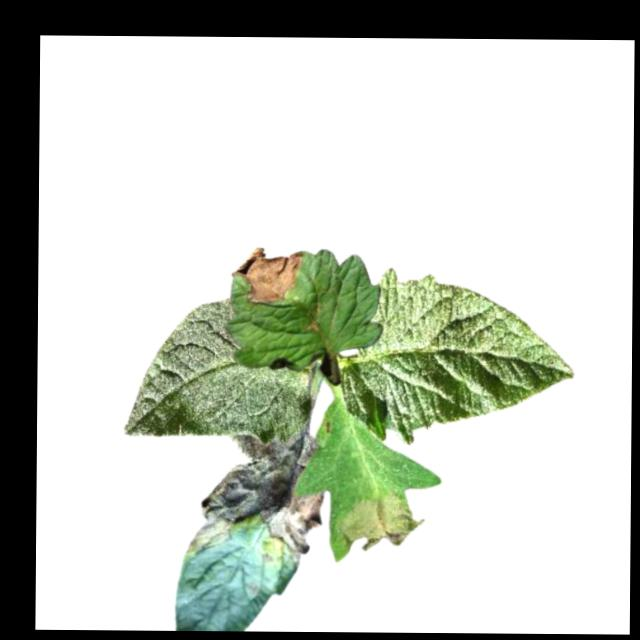Late_blight: (184, 434, 327, 568), (338, 492, 431, 552), (231, 245, 303, 305)
healthy: (343, 264, 576, 448), (124, 296, 313, 441)
